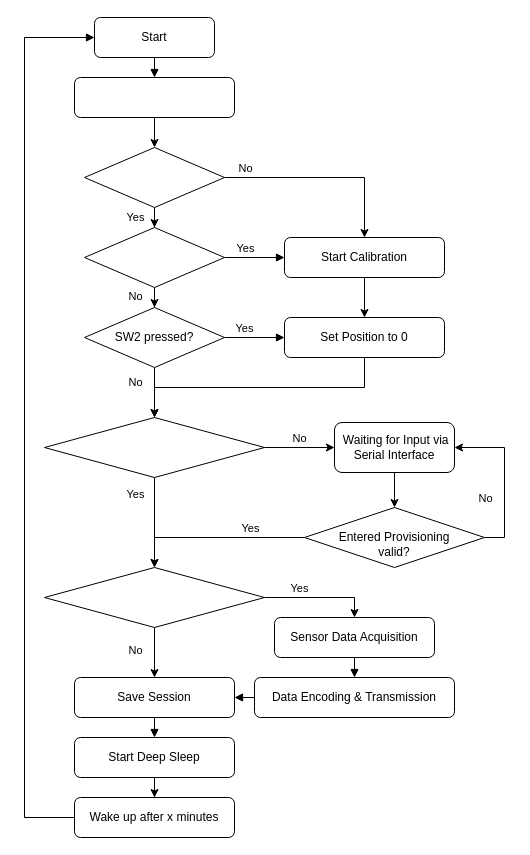
The diagram is 530 pixels wide and 855 high, and some of its shapes have lost their labels. Each missing label, with the centre of its shape:
Calibration Data available?: point 154,177
Initialization & Setup: point 154,97
LoRaWAN Connection available?: point 154,597
LoRaWAN Porvisioning available?: point 154,447
SW1 pressed?: point 154,257
